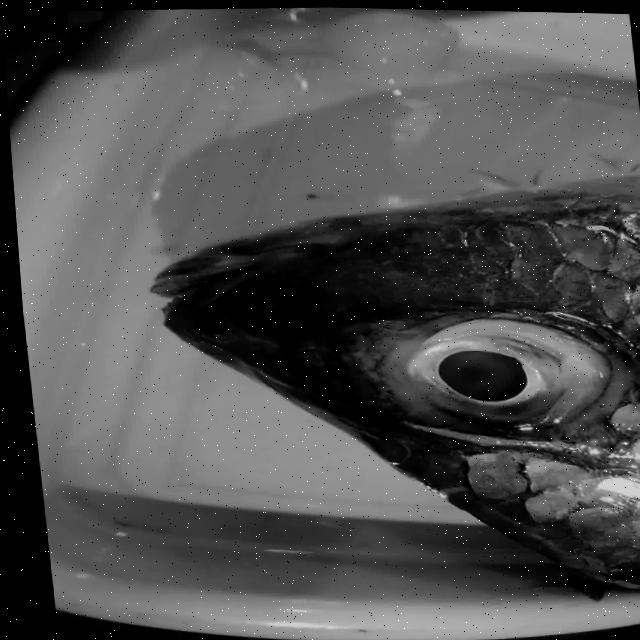Fresh: (353, 293, 621, 445)
